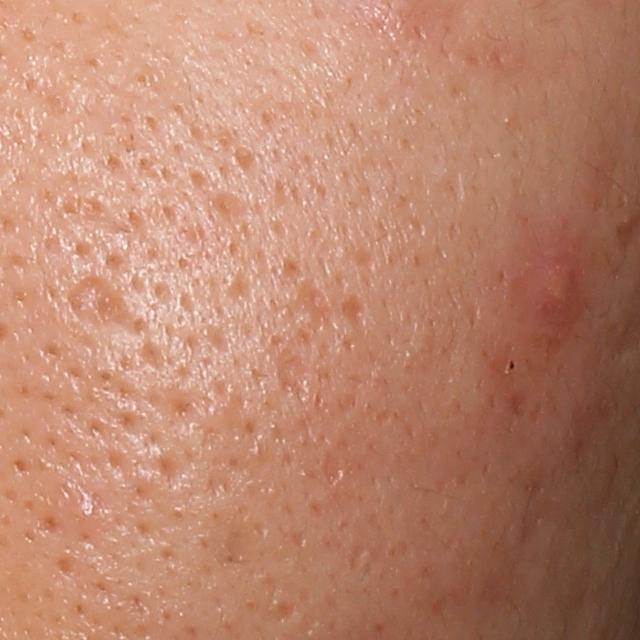atrophic_scar: (258, 332, 318, 406), (205, 505, 267, 576), (66, 273, 137, 327), (293, 278, 335, 340), (337, 290, 373, 344), (205, 191, 250, 230), (434, 163, 467, 200), (320, 450, 343, 485), (269, 600, 297, 618)
papule: (533, 257, 587, 317)
